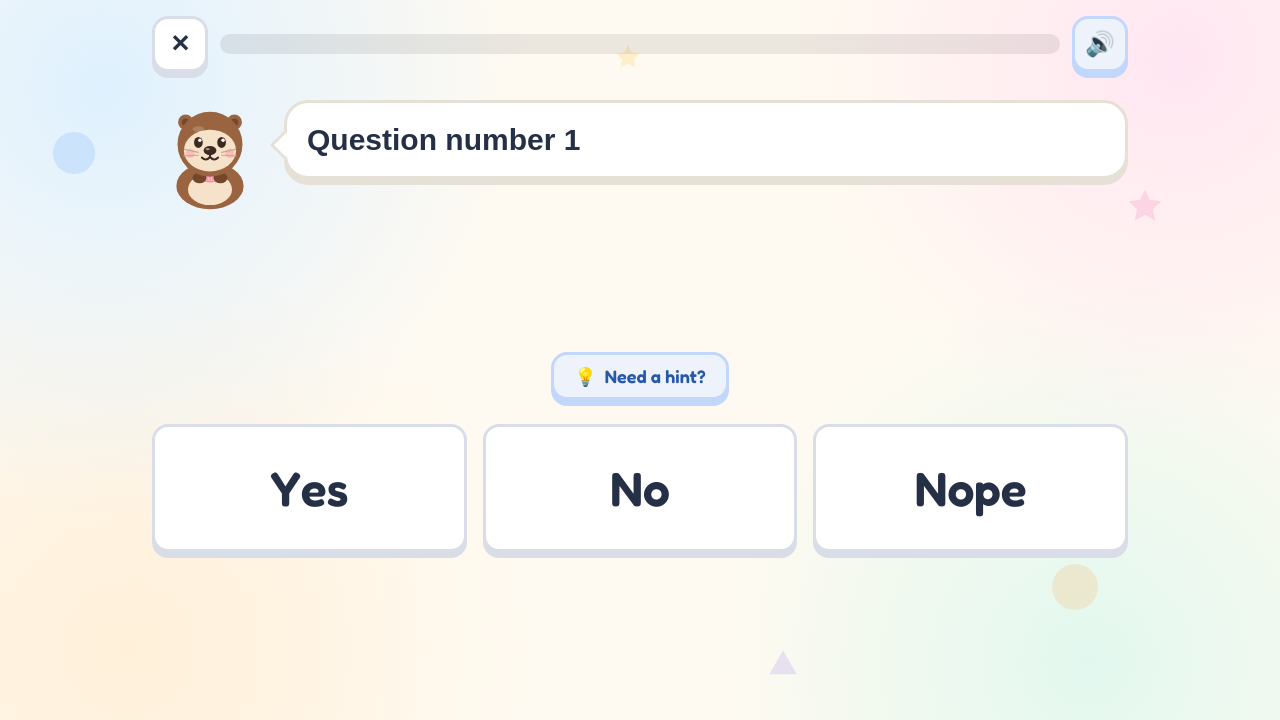
Test case: Session answer flow › finishes after the last question and logs one session
Click the button "Yes".
click(309, 488)  # box [152, 424, 467, 552]
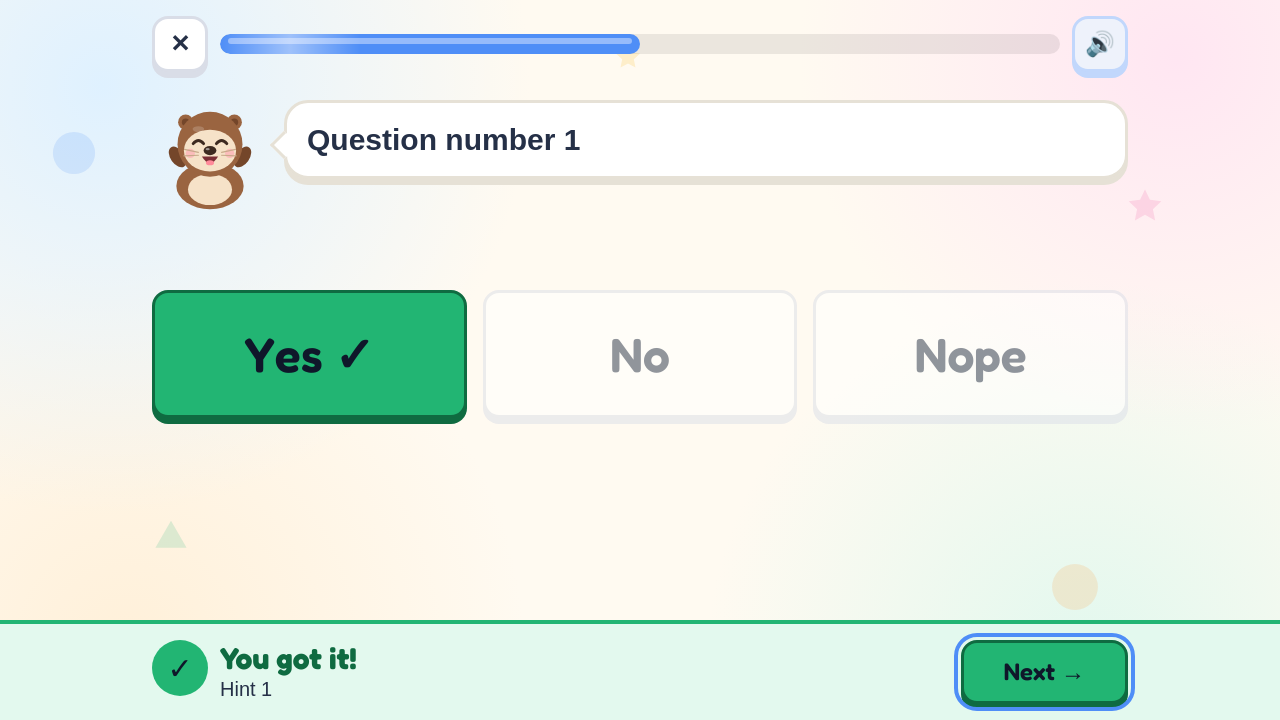
Click the button "Next →".
click(1044, 672)  # box [961, 640, 1128, 704]
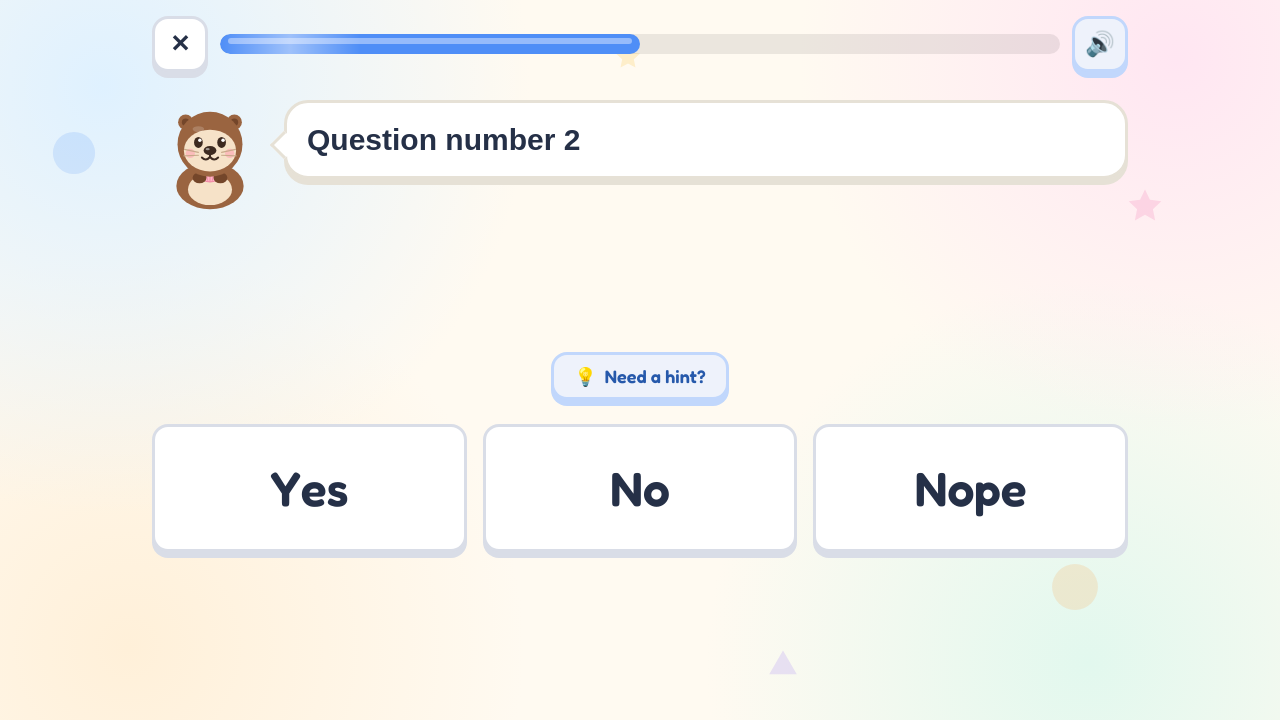
Click the button "Yes".
click(309, 488)  # box [152, 424, 467, 552]
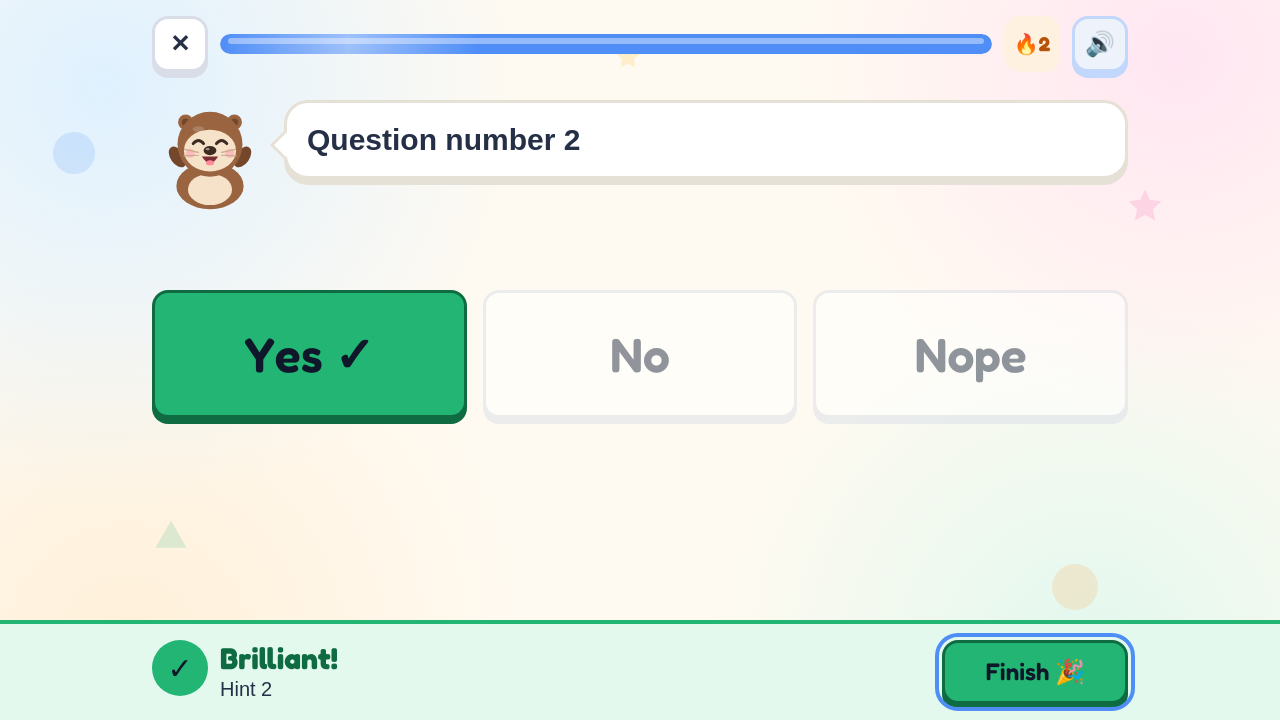
Click the button "Finish 🎉".
click(1035, 672)  # box [942, 640, 1128, 704]
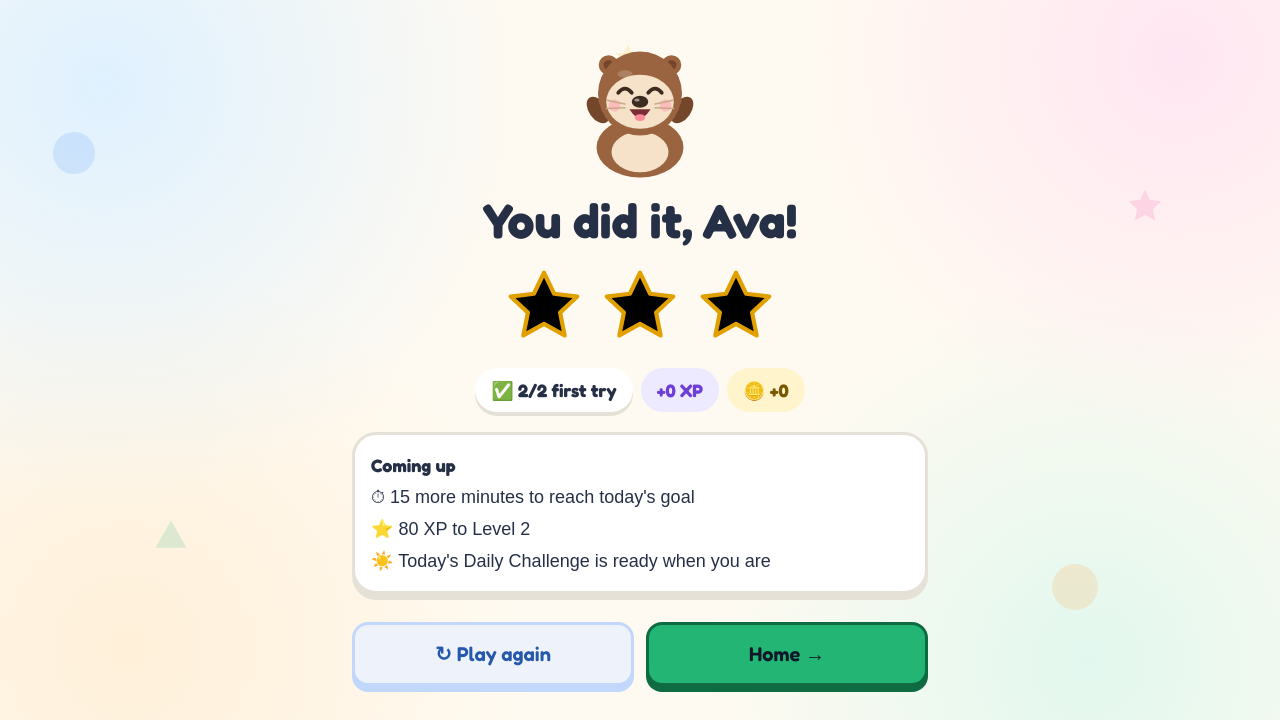
expect the heading "You did it, Ava!" is shown: met, box [483, 196, 797, 244]
expect the text "✅ 2/2 first try" is shown: met, box [475, 368, 633, 412]
